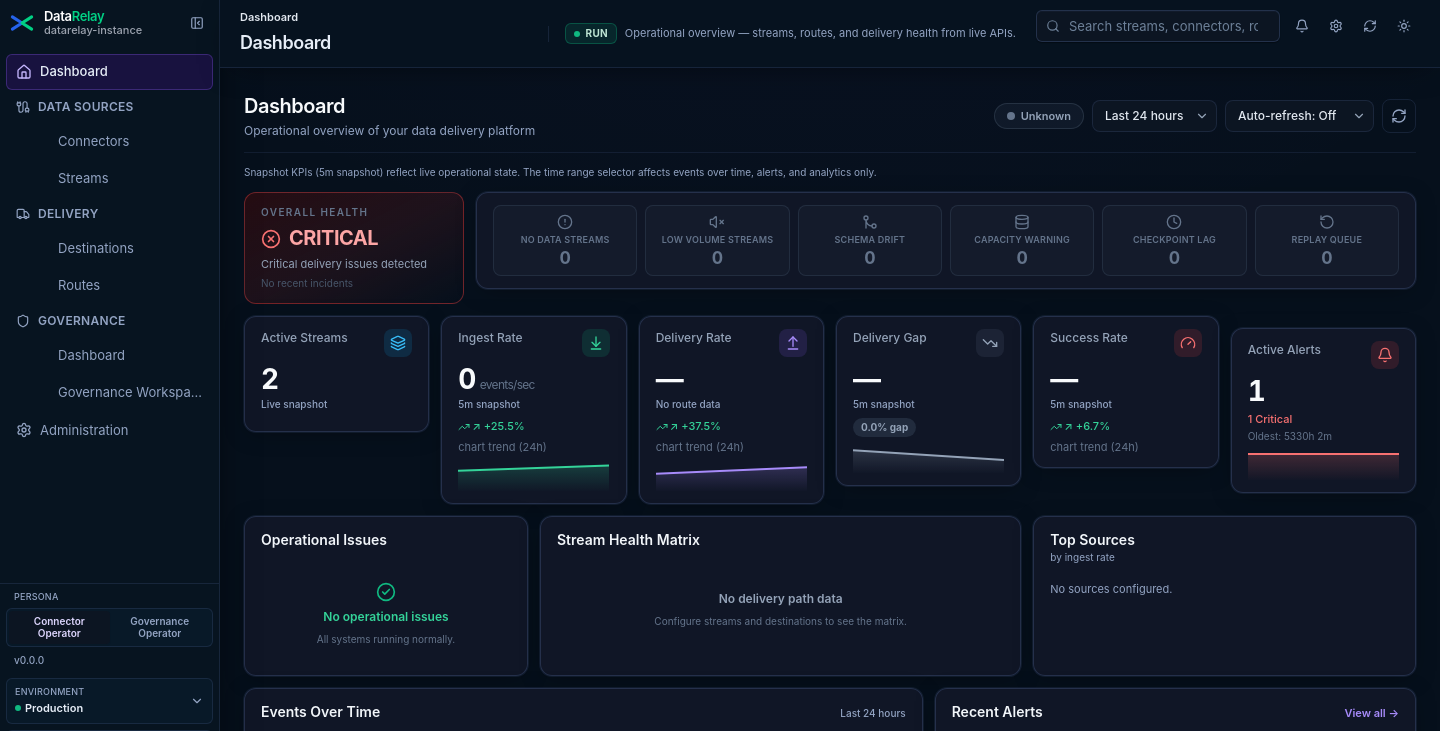
Scenario: App shell (phase: sidebar, header, dashboard) › renders Connectors via Data Sources sidebar entry
This screenshot has width=1440, height=731.
Click the button "Connectors" at (110, 141), box [6,124,213,159]
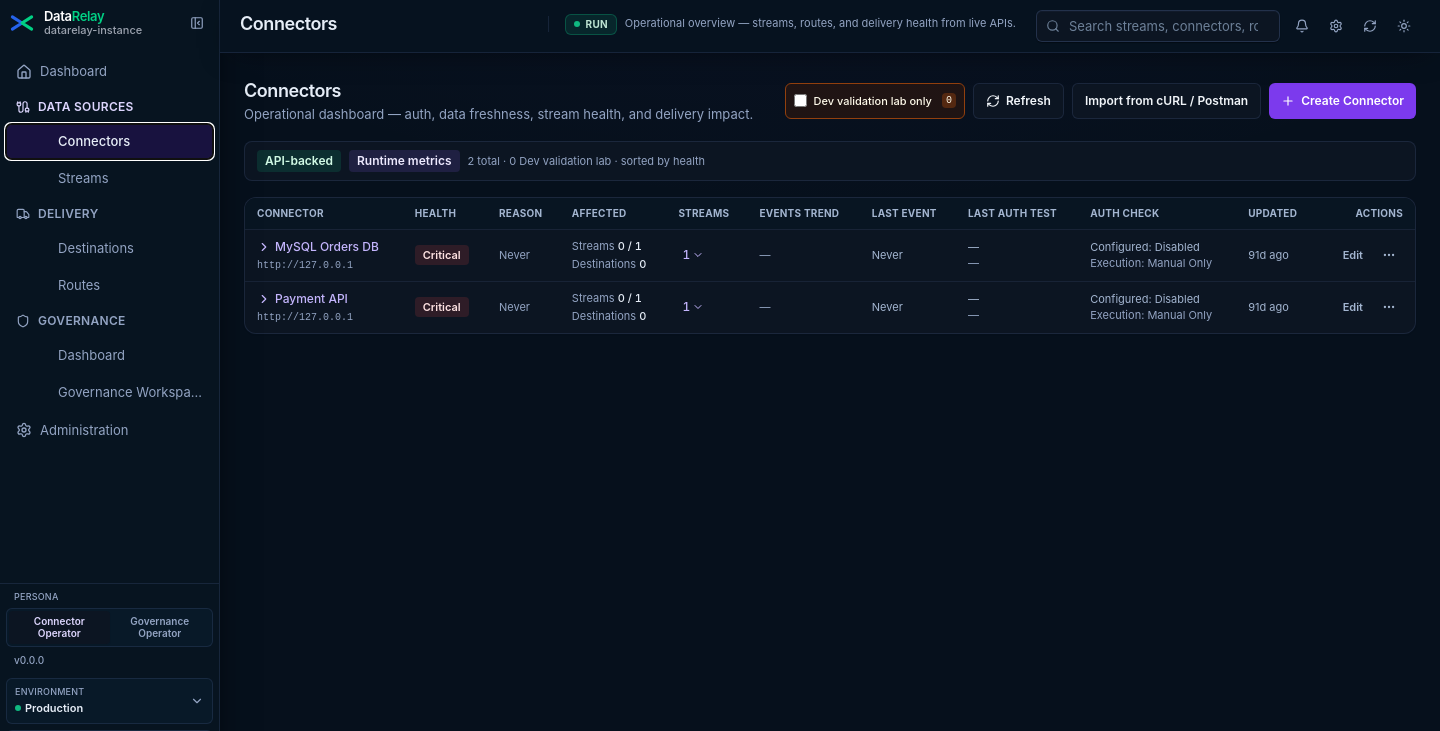
Expected: the text "Operational dashboard — auth, data freshness" is shown, [244,106,753,122]
Expected: the link "Create Connector" is shown, [1269,83,1416,119]
Expected: the column heading "Connector" is shown, [245,198,403,229]
